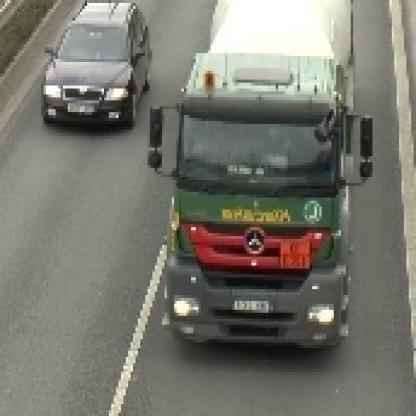truck: (144, 1, 371, 355)
